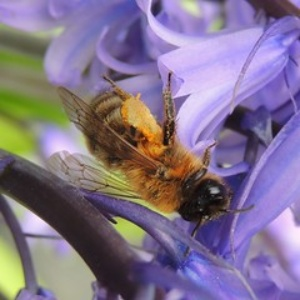bee: (55, 72, 245, 241)
